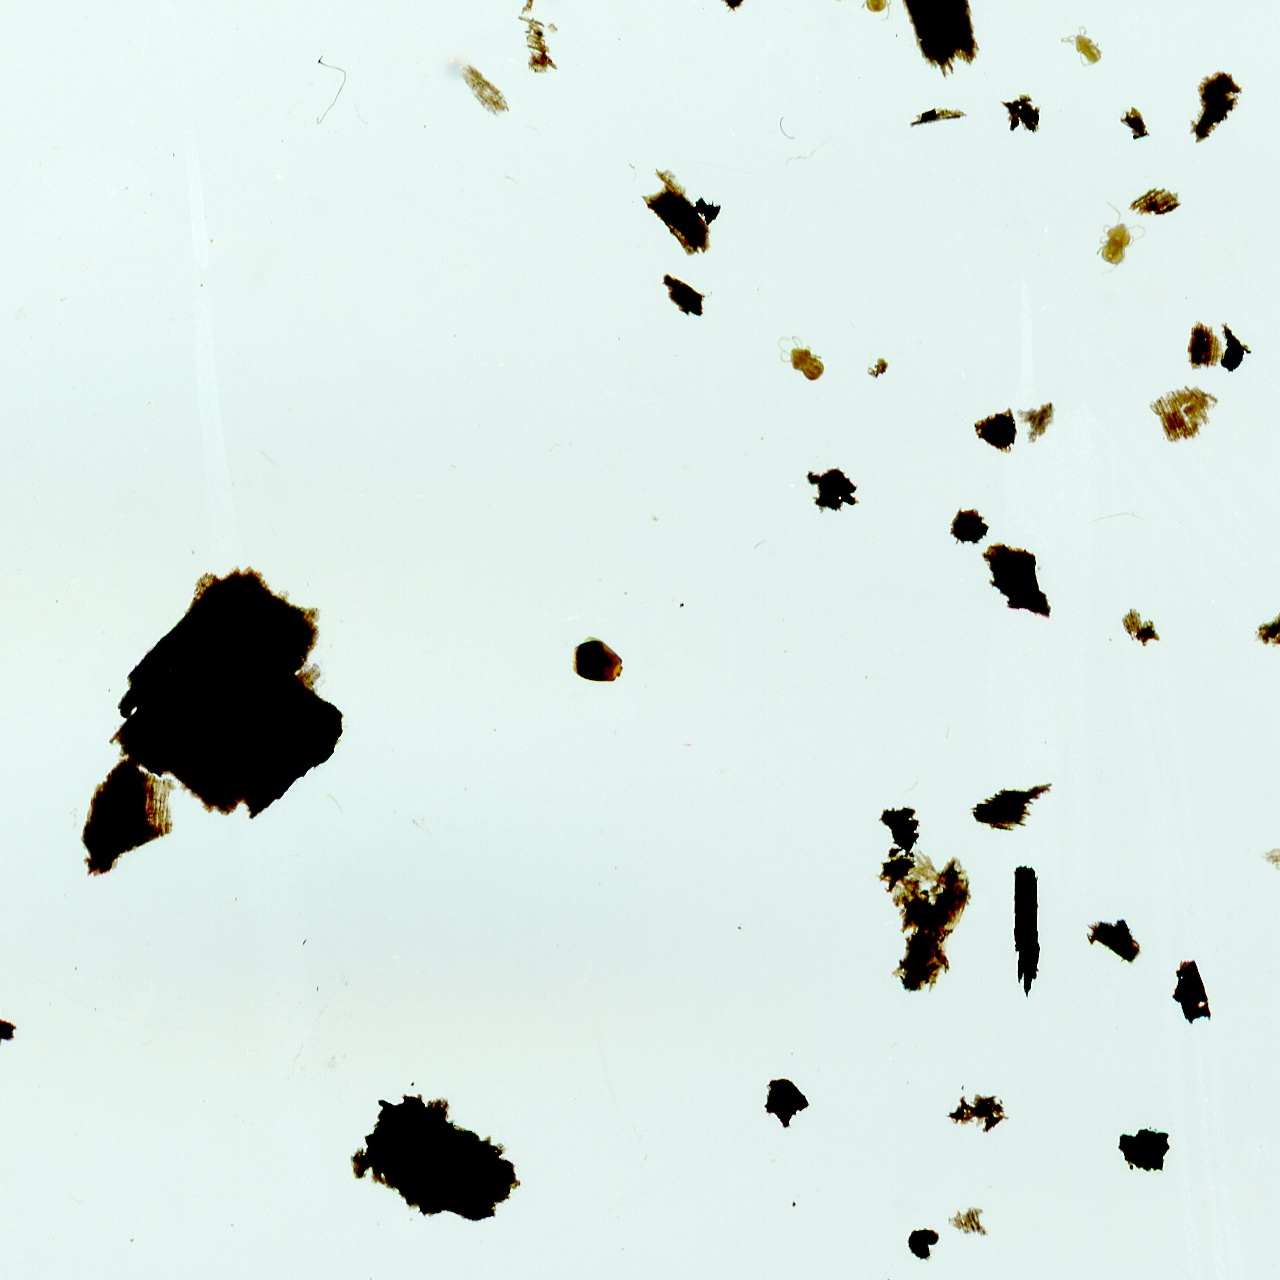arthropod: (1091, 199, 1151, 277), (775, 334, 829, 382), (1057, 21, 1103, 68), (852, 0, 894, 25)
